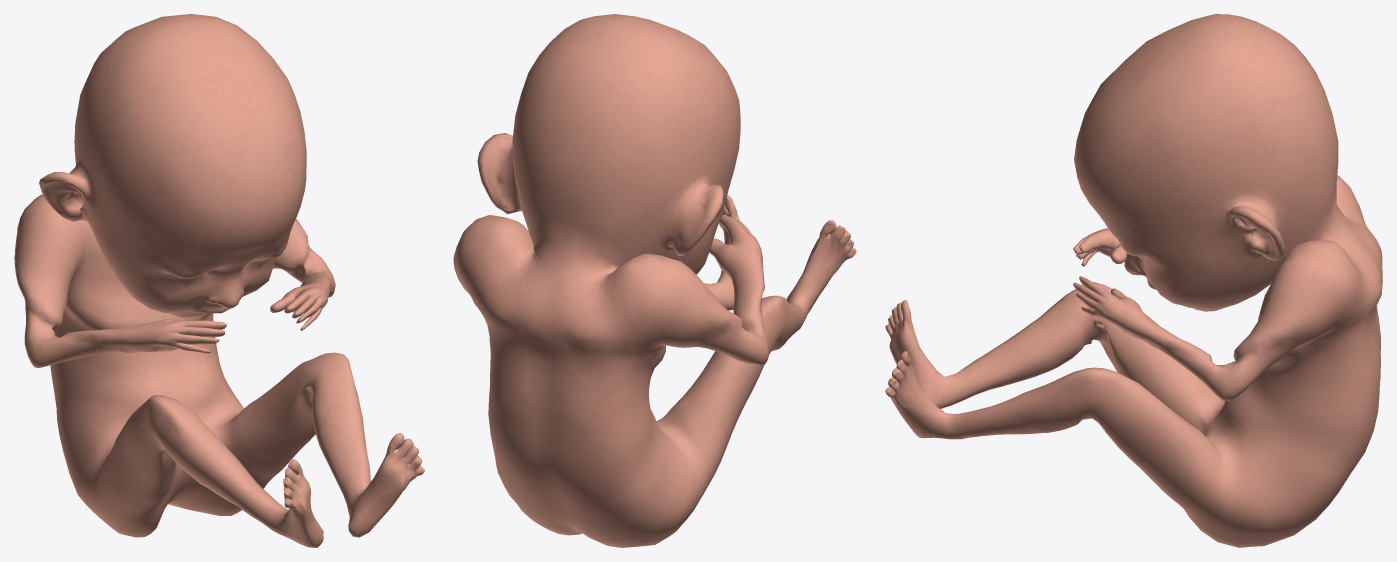
File: pb-w22.24ab1cea.glb
3 renders of one model, left to right at view 1: azimuth 30°, elevation 25°; view 2: azimuth 150°, elevation 25°; view 3: azimuth 270°, elevation 25°, orthographic.
Parts seen in each view (by area): view 1: Baby; view 2: Baby; view 3: Baby.
Boxes of the visible parts, left/top/right/bottom form: Baby: left=14, top=14, right=424, bottom=547; Baby: left=453, top=14, right=856, bottom=547; Baby: left=885, top=14, right=1382, bottom=547.
Bounding box in the file's own units: 0.1278 × 0.2043 × 0.1839.
Materials: 1 (1 with a texture image).
